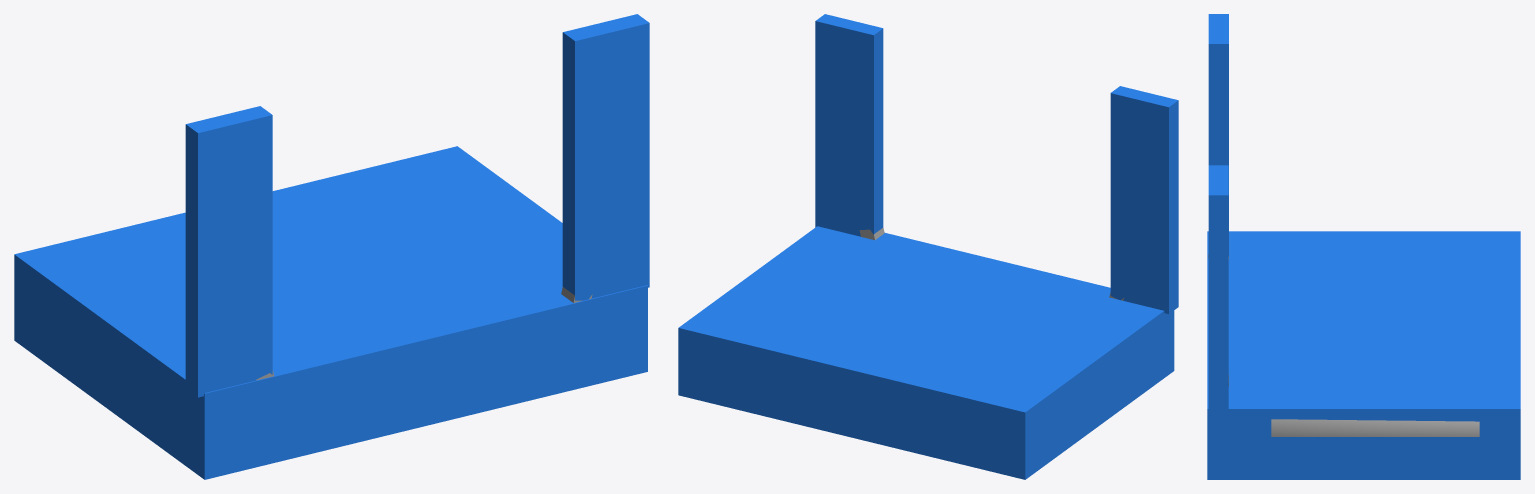
The model's file is wifi.glb.
3 renders of one model, left to right at view 1: azimuth 30°, elevation 25°; view 2: azimuth 150°, elevation 25°; view 3: azimuth 270°, elevation 25°, orthographic. The views are drawn at different scales.
Visible parts, largest first — view 1: COL_body, COL_antenna_01, COL_antenna_02; view 2: COL_body, COL_antenna_01, COL_antenna_02; view 3: COL_body, COL_antenna_02, wifi, COL_antenna_01.
Boxes of the visible parts, bbox=[...] form: COL_body: bbox=[14, 146, 647, 479]; COL_antenna_01: bbox=[185, 106, 272, 397]; COL_antenna_02: bbox=[562, 14, 649, 300]; COL_body: bbox=[678, 226, 1174, 479]; COL_antenna_01: bbox=[1110, 86, 1178, 313]; COL_antenna_02: bbox=[815, 14, 883, 236]; COL_body: bbox=[1207, 231, 1520, 479]; COL_antenna_02: bbox=[1208, 165, 1228, 412]; wifi: bbox=[1208, 254, 1479, 436]; COL_antenna_01: bbox=[1208, 14, 1228, 255].
Size of the model in its own units: 0.38 by 0.2796 by 0.2776.
